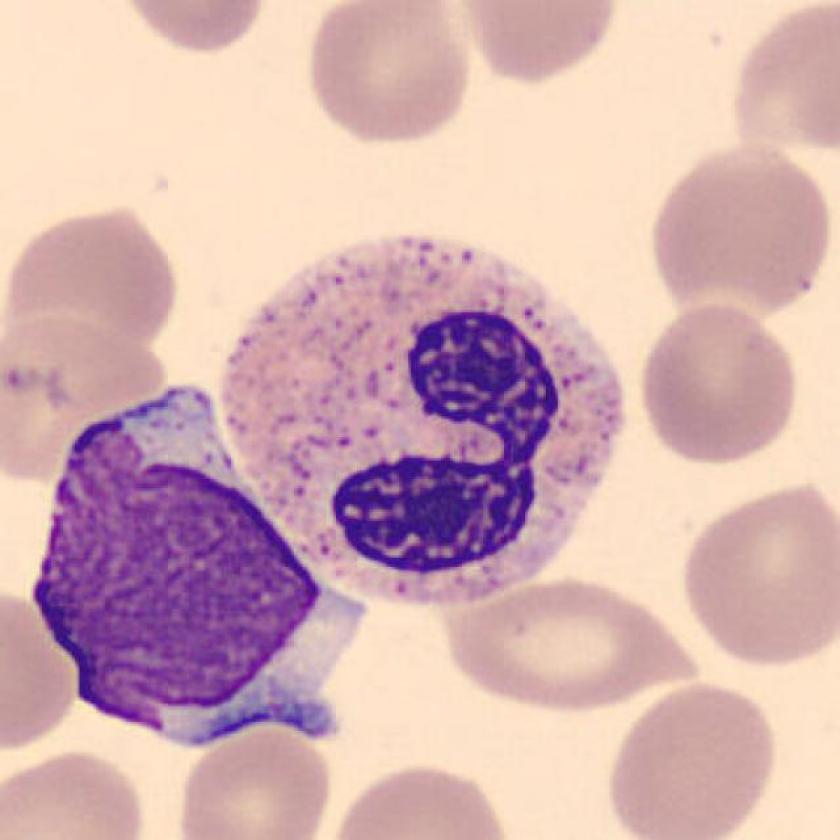lymphocyte: (37, 388, 364, 743)
neutrophil: (219, 237, 626, 605)
